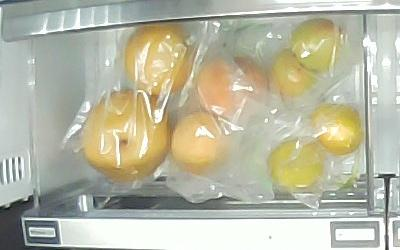peach_vinyl: (196, 56, 270, 118), (170, 112, 228, 174)
pear_vinyl: (80, 89, 172, 180), (123, 25, 197, 95)
persimmon_vinyl: (291, 18, 344, 71), (268, 50, 316, 98)
tangerine_vinyl: (267, 138, 326, 190), (314, 104, 363, 155)
